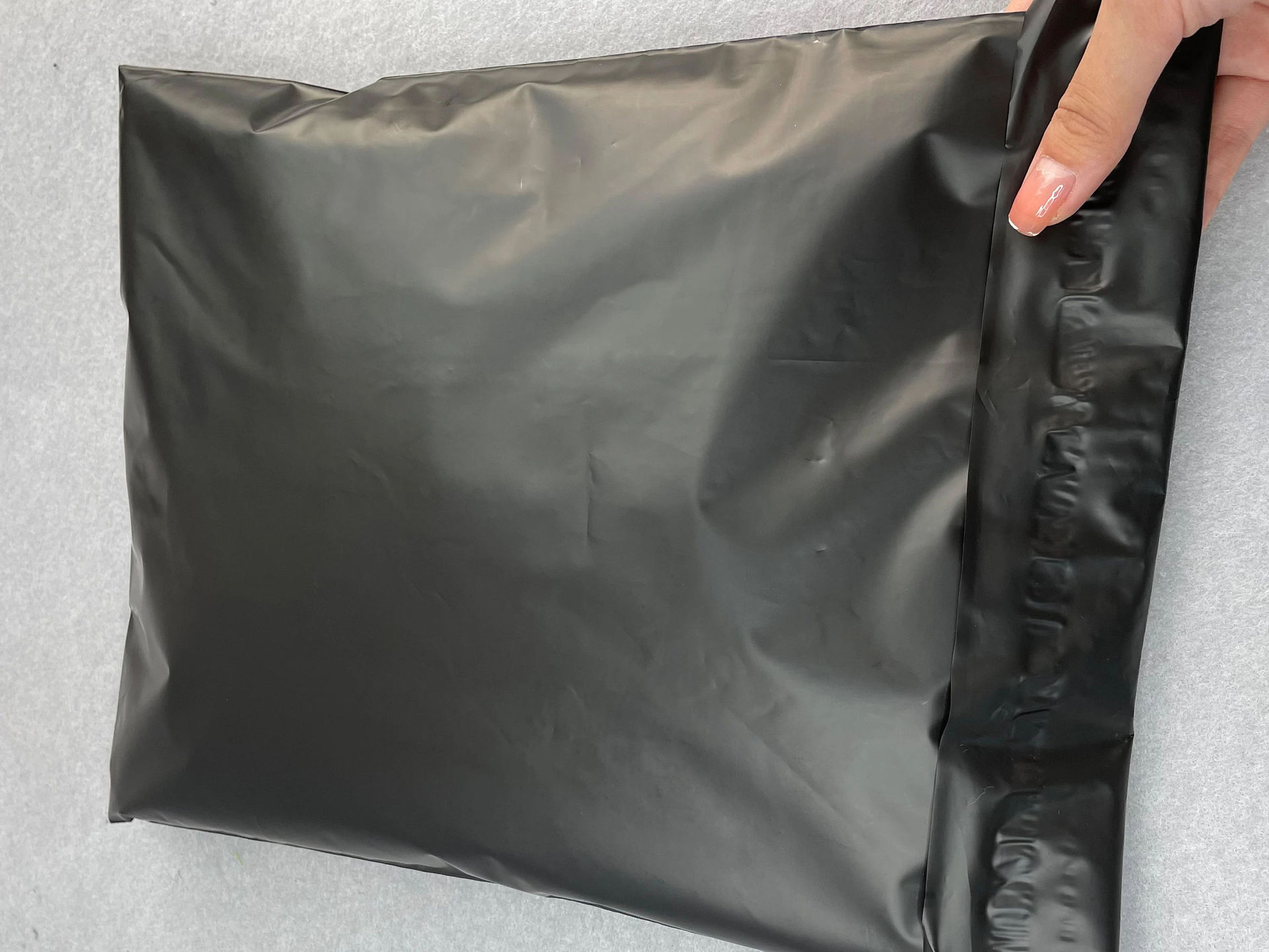Parcel: (108, 0, 1219, 947)
